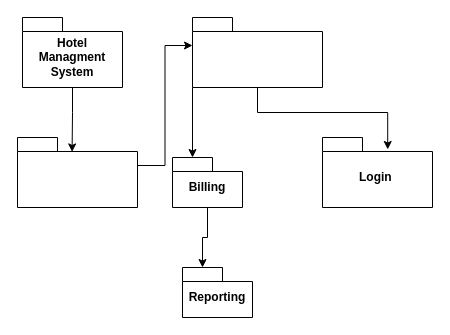
This 450x335 diagram has some shape labels left out. The shapes that lost their labels are listed below. From the top down, each one's centre as x and y in pixels, then its label:
At point (257, 52): "Reservation Managment Package".
At point (77, 172): "Guest Service".
